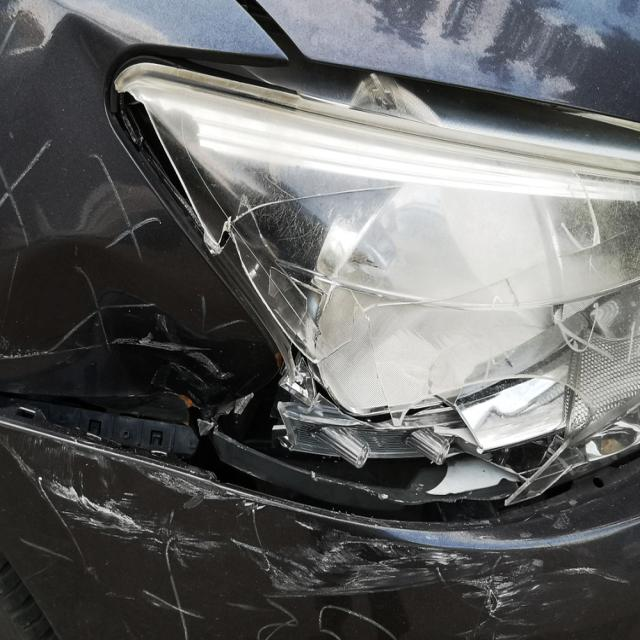dent: (0, 244, 270, 401)
lamp broken: (110, 59, 640, 502)
scratch: (0, 430, 640, 640)
